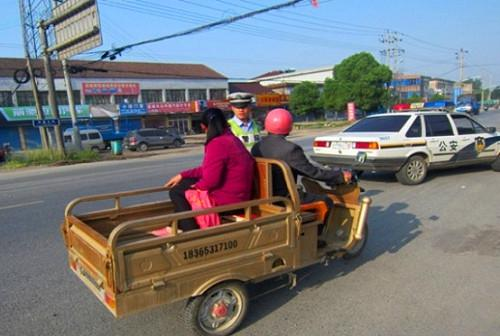driver: (256, 111, 369, 256)
overloading: (47, 107, 377, 336)
passenger: (151, 105, 248, 249)
